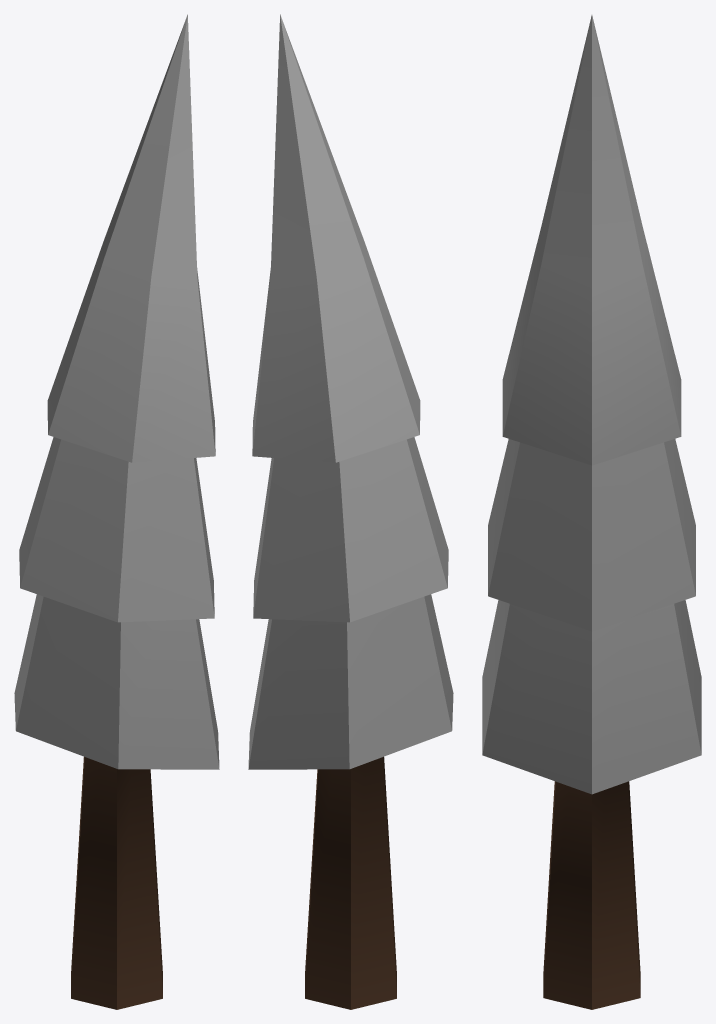
File: IDTree2.fbx
3 views of the same model, side by side, from view 1: azimuth 30°, elevation 25°; view 2: azimuth 150°, elevation 25°; view 3: azimuth 270°, elevation 25° (orthographic). The views are drawn at different scales.
Visible parts, largest first — view 1: TREE_1; view 2: TREE_1; view 3: TREE_1.
Boxes of the visible parts, <box> form: TREE_1: <box>14,14,219,1009</box>; TREE_1: <box>248,14,453,1009</box>; TREE_1: <box>482,15,701,1009</box>.
Size of the model in its own units: 266 by 1203 by 237.
